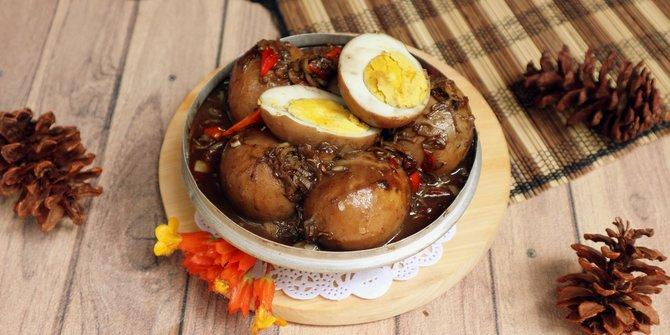telur: (242, 46, 428, 223)
